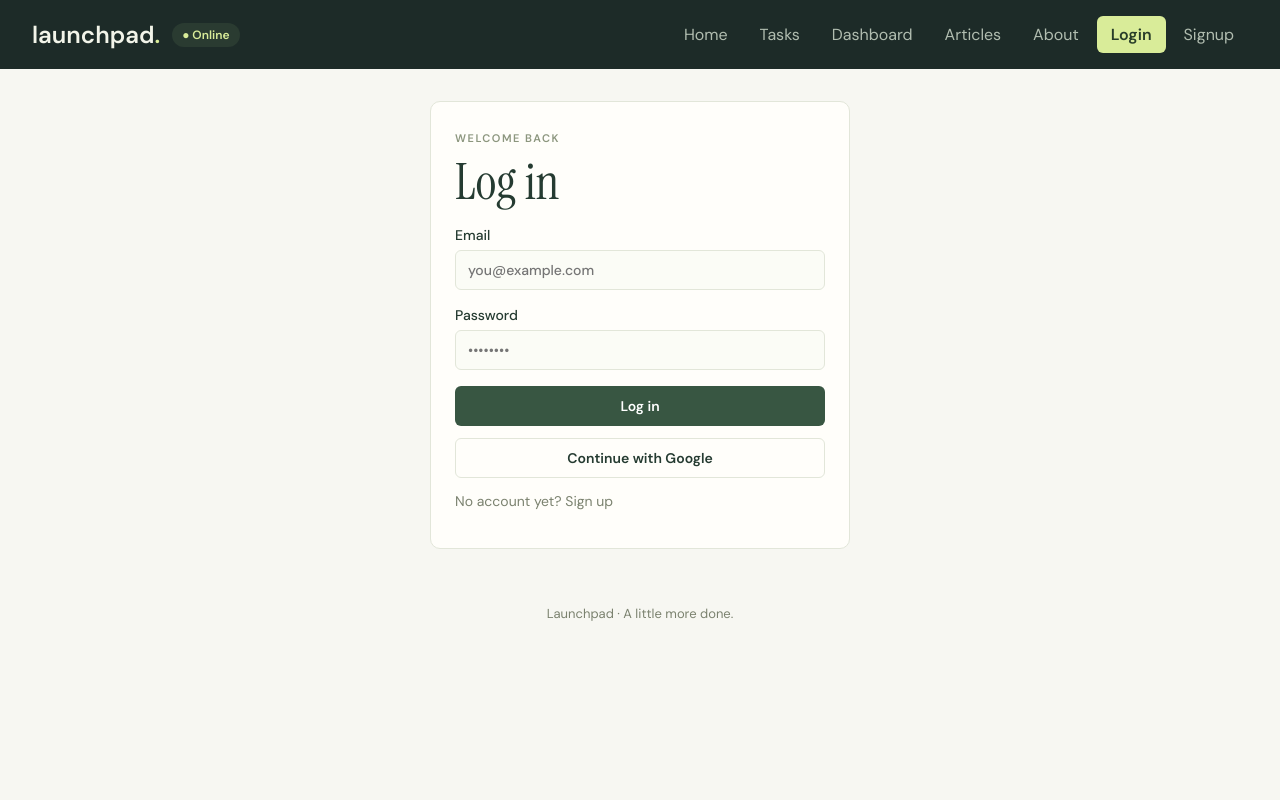
Test: logs in, shows the profile and logs out
Type "me@example.com" into the field with placeholder "you@example.com".
click(640, 270); type("me@example.com")  # box [455,250,825,290]
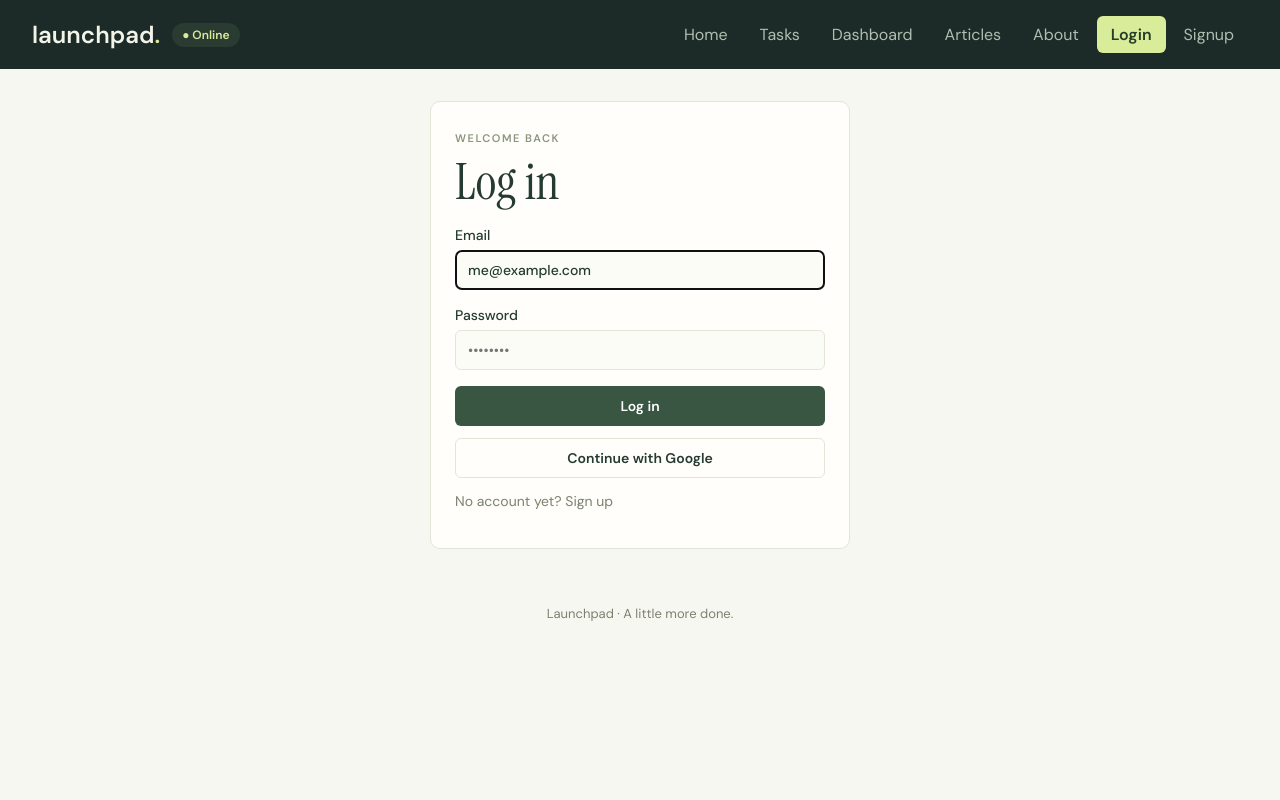
Type "secret1" into the password field with placeholder "••••••••".
click(640, 350); type("secret1")  # box [455,330,825,370]
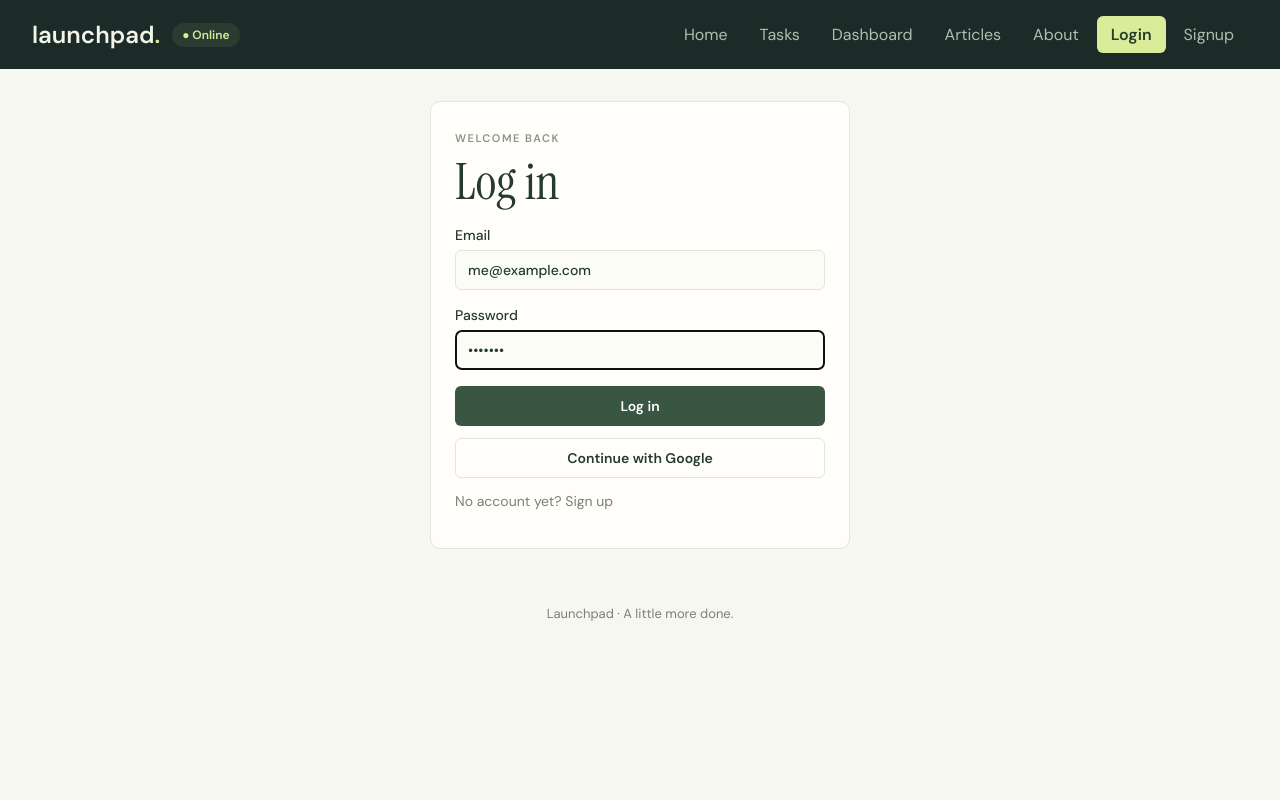
Click the button "Log in".
click(640, 406)  # box [455,386,825,426]
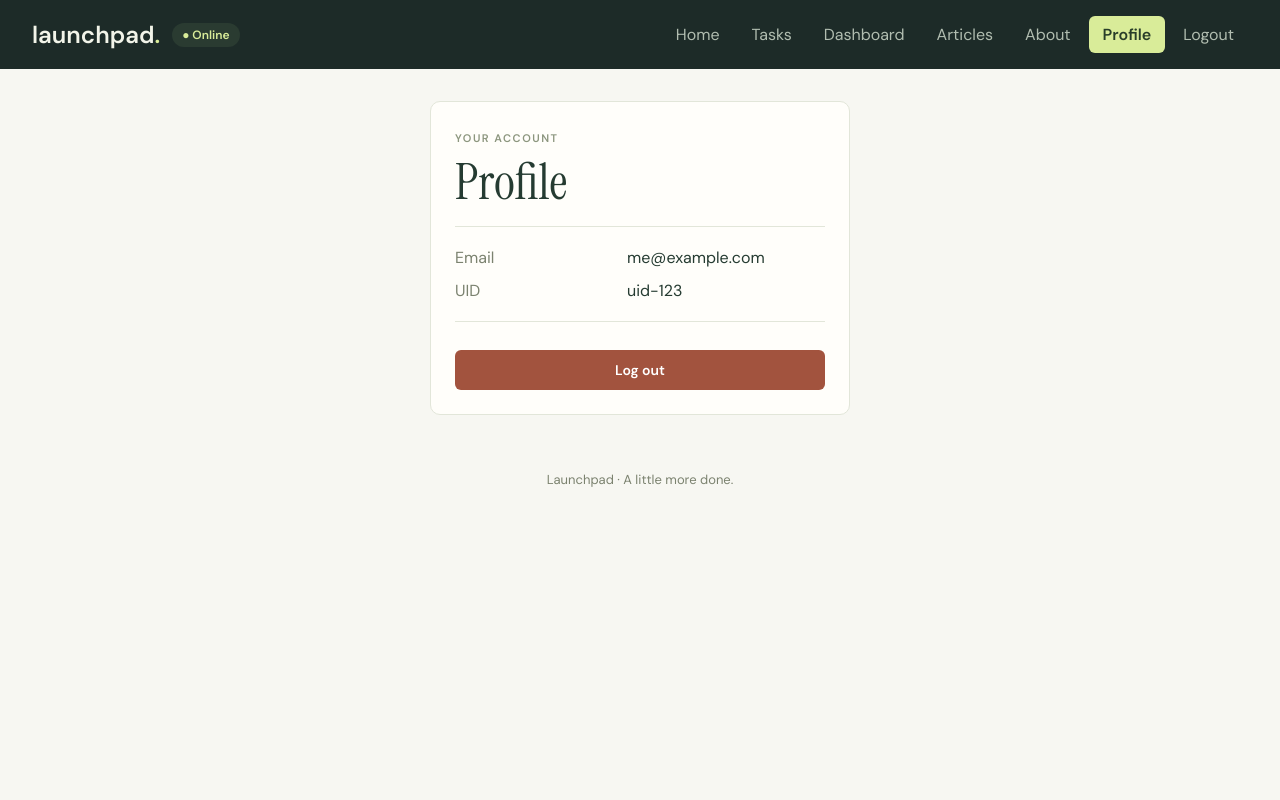
Expected: the text "me@example.com" is shown, [627,247,765,268]
Expected: the text "uid-123" is shown, [627,280,682,301]
Click the button "Logout".
click(1209, 34)  # box [1169,16,1248,53]
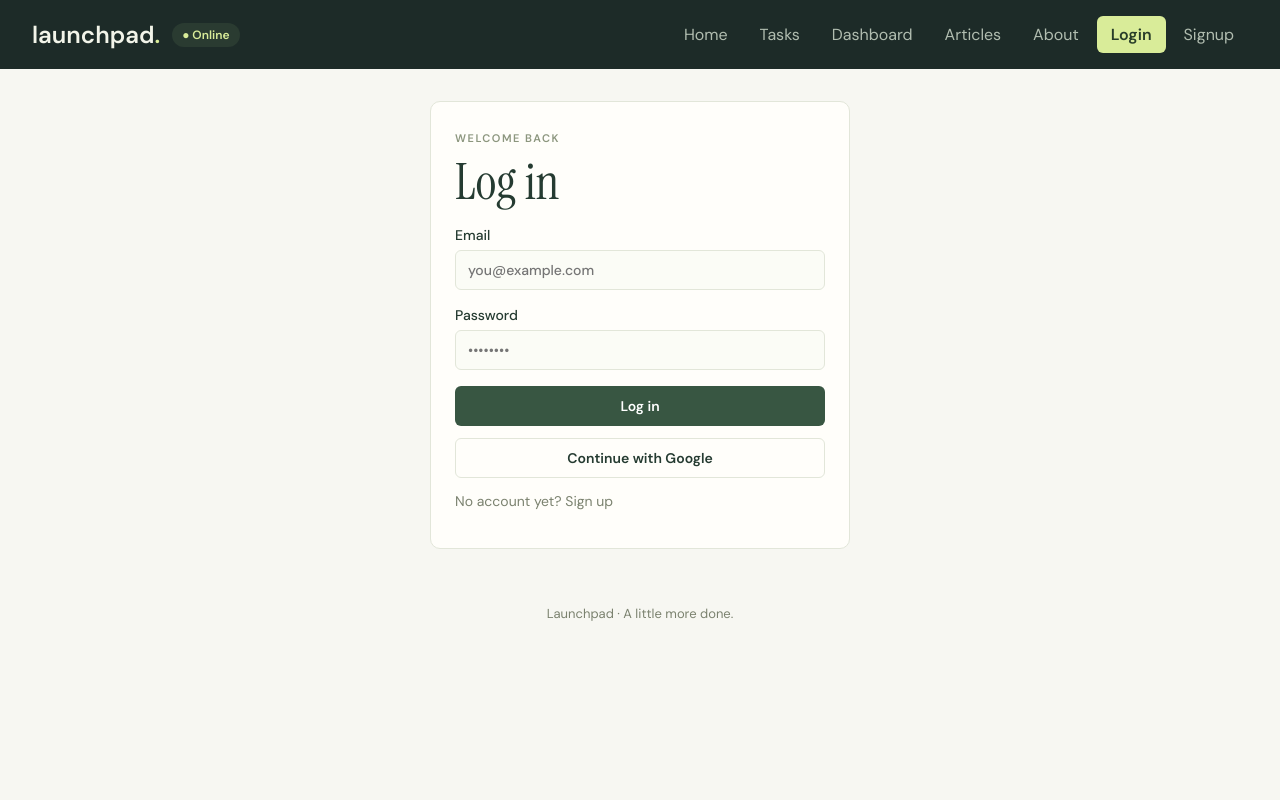
Expected: the link "Login" is shown, [1097,16,1166,53]
